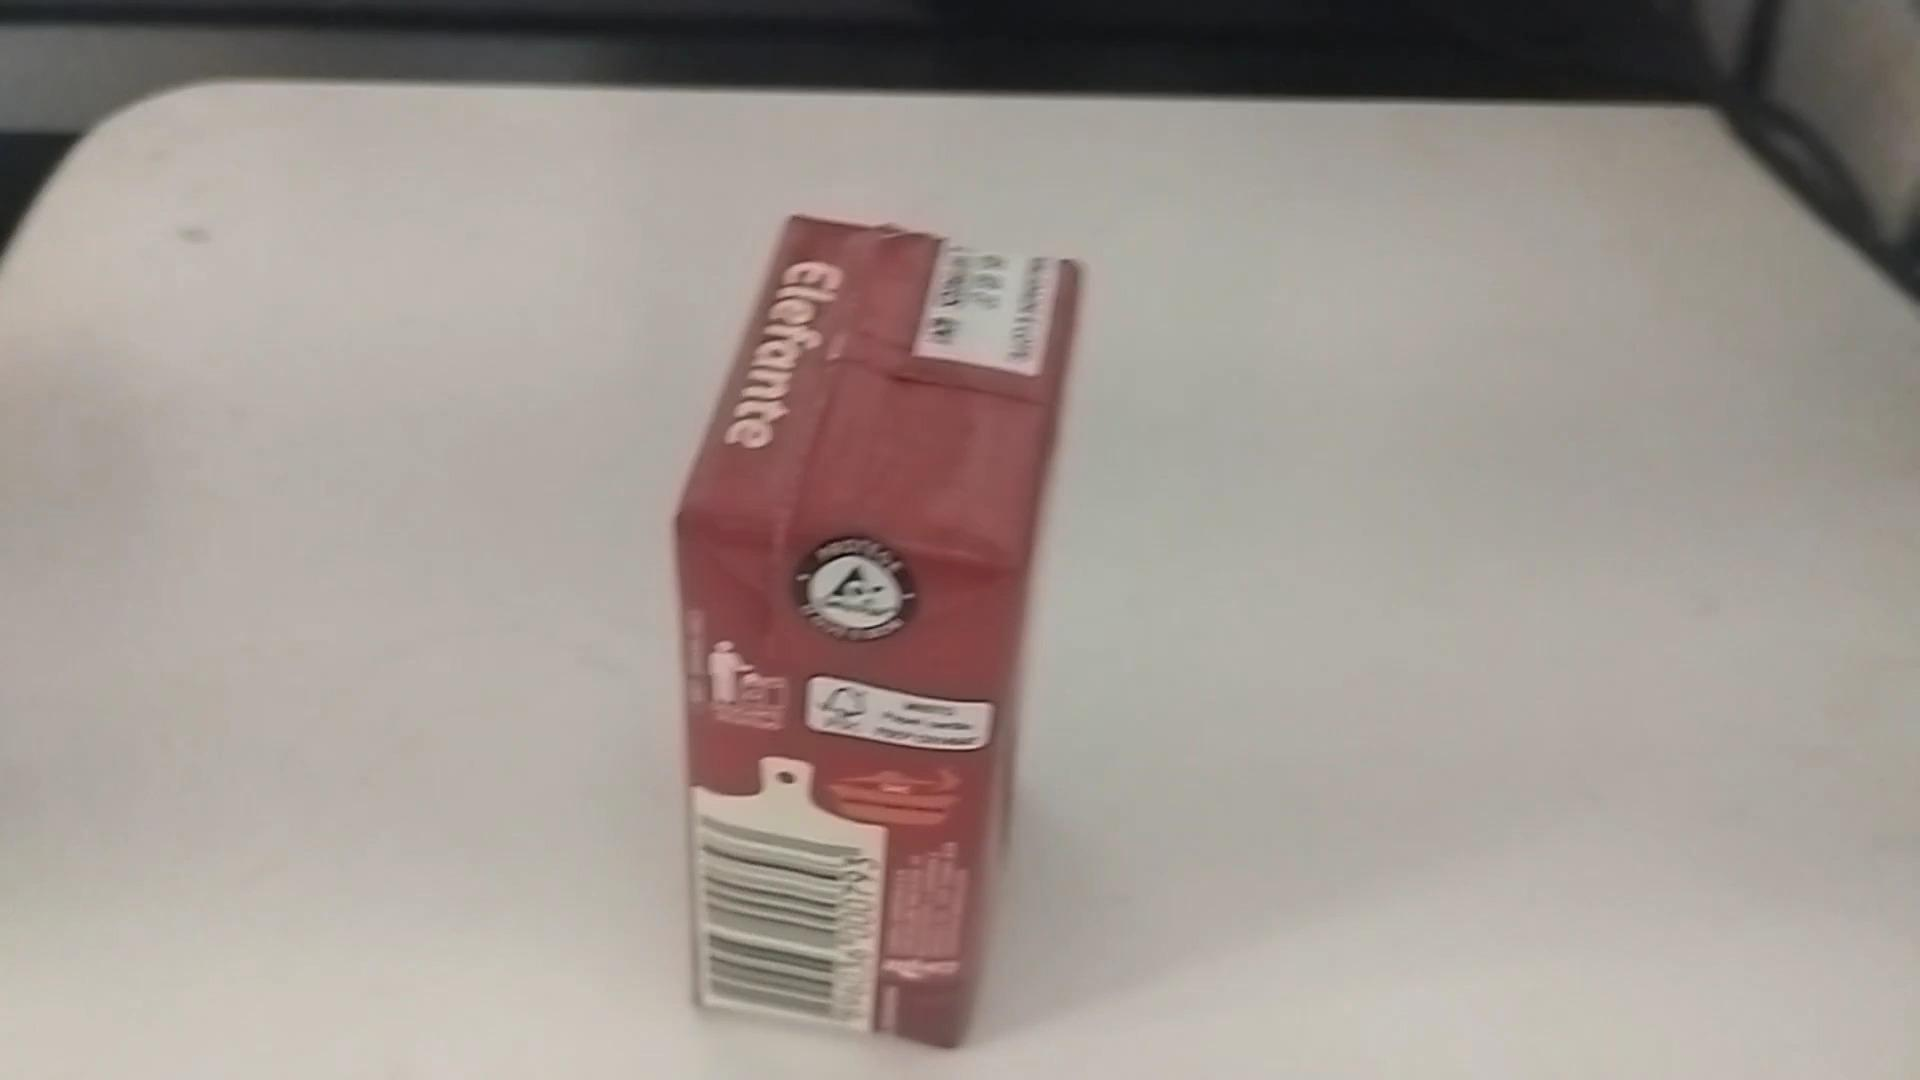tomate: (661, 211, 1097, 1052)
